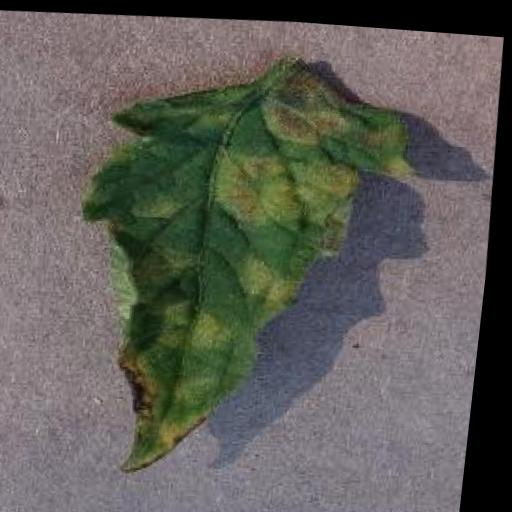Leaf Mold: (62, 35, 432, 488)
